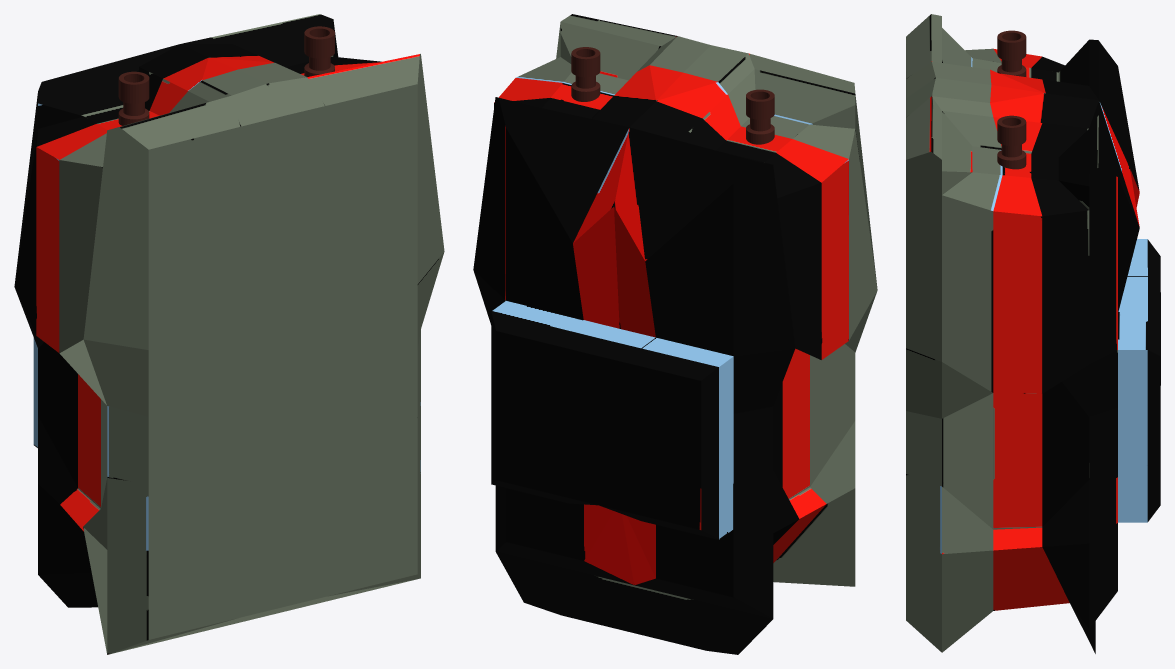
The model's file is HeavyTruck.fbx.
3 renders of one model, left to right at view 1: azimuth 30°, elevation 25°; view 2: azimuth 150°, elevation 25°; view 3: azimuth 270°, elevation 25°, orthographic. The views are drawn at different scales.
Parts seen in each view (by area): view 1: Cube, Cylinder; view 2: Cube, Cylinder; view 3: Cube, Cylinder.
Part boxes in pixels (x1=…): Cube: x1=14, y1=14, x2=444, y2=654; Cylinder: x1=118, y1=26, x2=334, y2=125; Cube: x1=473, y1=14, x2=877, y2=654; Cylinder: x1=571, y1=47, x2=774, y2=144; Cube: x1=906, y1=14, x2=1160, y2=653; Cylinder: x1=997, y1=30, x2=1026, y2=169.
Bounding box in the file's own units: 2.44 × 1.59 × 3.66.
